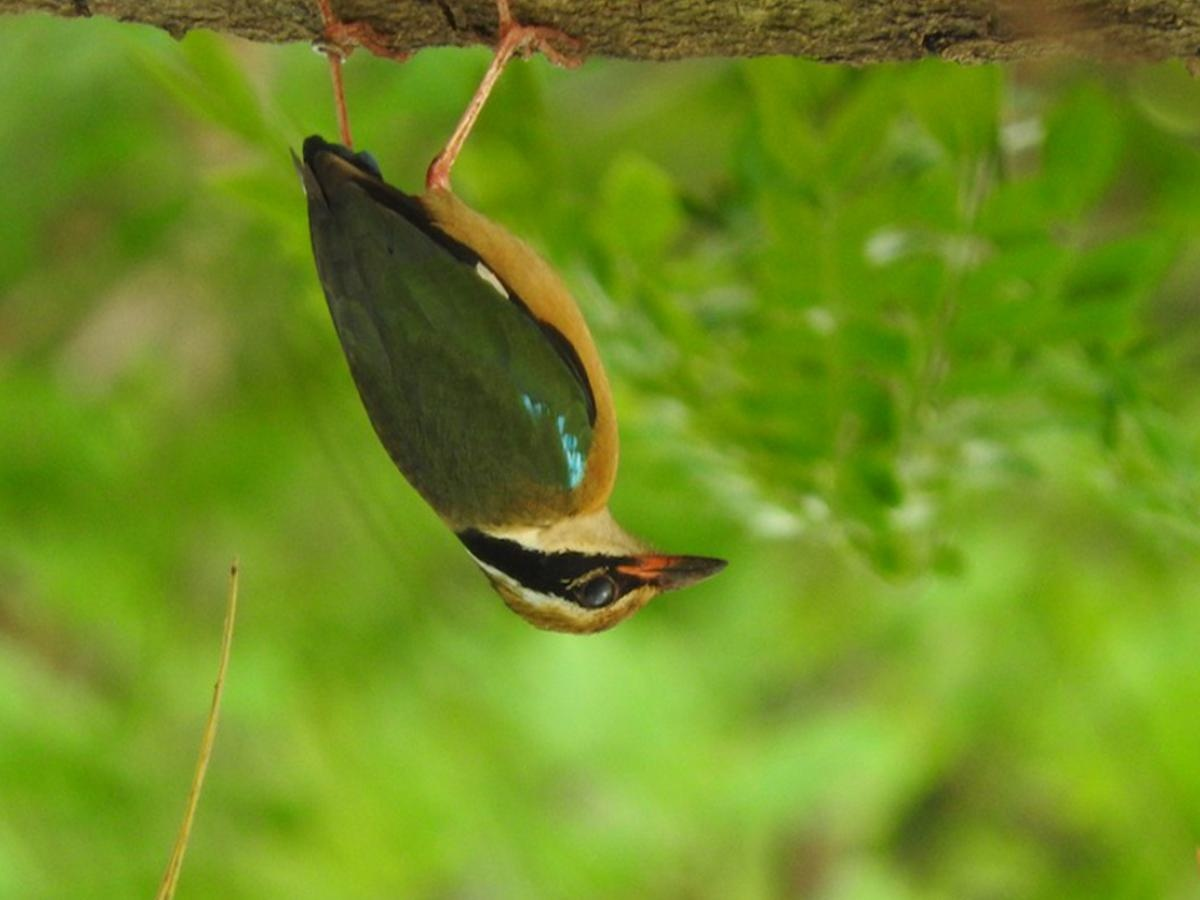pitta: (293, 6, 727, 640)
